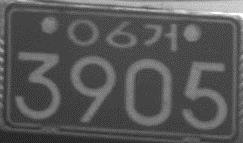0: (123, 57, 172, 127), (66, 17, 100, 47)
3: (14, 50, 60, 120)
5: (180, 60, 228, 131)
6: (105, 20, 137, 49)
9: (69, 53, 117, 123)
거: (141, 21, 179, 51)
